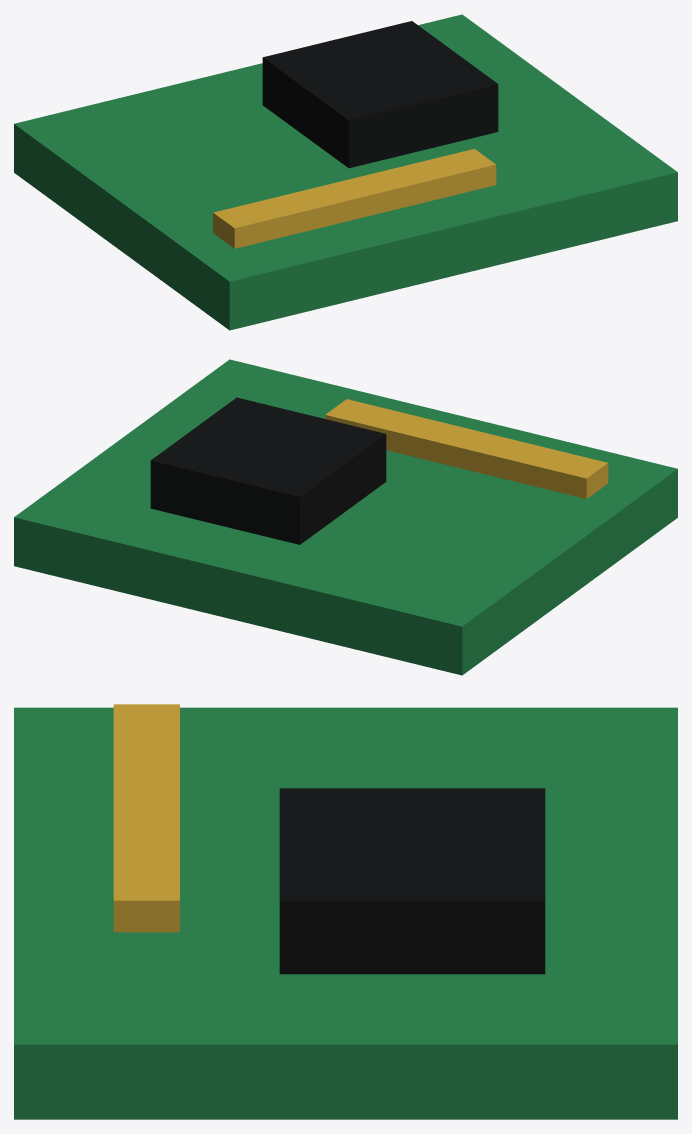
File: board.fbx
3 renders of one model, top to bottom at view 1: azimuth 30°, elevation 25°; view 2: azimuth 150°, elevation 25°; view 3: azimuth 270°, elevation 25°, orthographic. The views are drawn at different scales.
Parts seen in each view (by area): view 1: board; view 2: board; view 3: board.
Boxes of the visible parts, x1,y1,x2,y2 form: board: (14,14,677,330); board: (14,359,677,675); board: (14,704,677,1119).
Size of the model in its own units: 0.72 by 0.1485 by 0.6.
